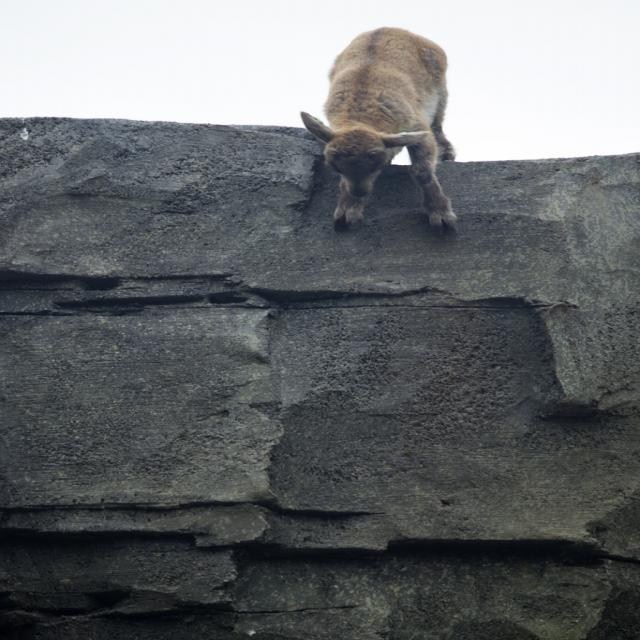Goat: (294, 34, 468, 250)
